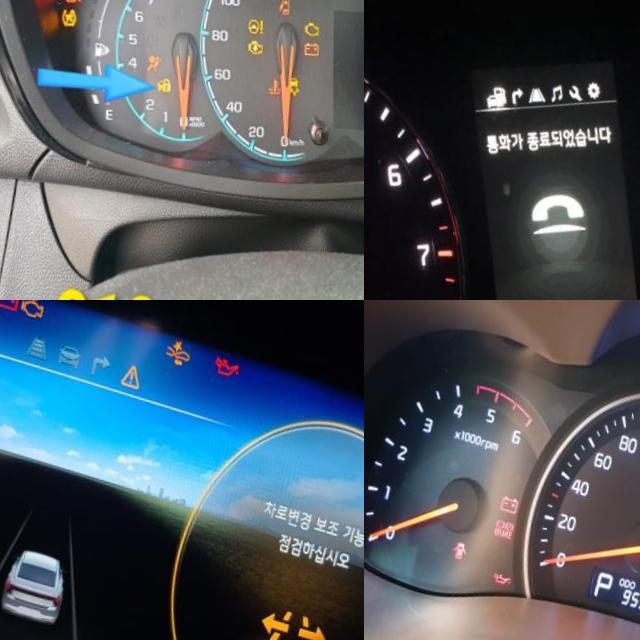Central Warning lamp: (122, 356, 147, 386)
Doors: (458, 534, 475, 556), (282, 0, 296, 6)
Engine cooling system: (274, 67, 288, 85)
